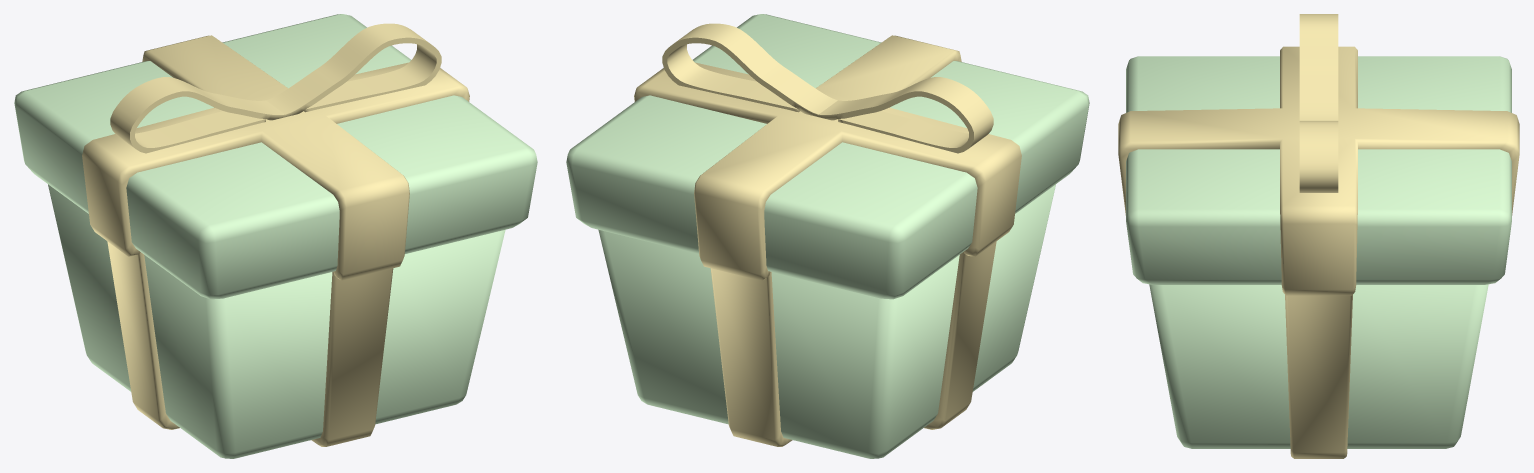
Rendered from WrappedFramedPhoto.fbx.
3 renders of one model, left to right at view 1: azimuth 30°, elevation 25°; view 2: azimuth 150°, elevation 25°; view 3: azimuth 270°, elevation 25°, orthographic.
Parts seen in each view (by area): view 1: Box.002, Bow.002; view 2: Box.002, Bow.002; view 3: Box.002, Bow.002.
Part boxes in pixels (box(x1,y1,x2,y2)): Box.002: box(14, 14, 537, 458); Bow.002: box(110, 23, 441, 153); Box.002: box(566, 14, 1089, 458); Bow.002: box(662, 23, 993, 153); Box.002: box(1118, 46, 1519, 458); Bow.002: box(1299, 14, 1338, 192).
Size of the model in its own units: 53.9 by 49.12 by 53.9.
